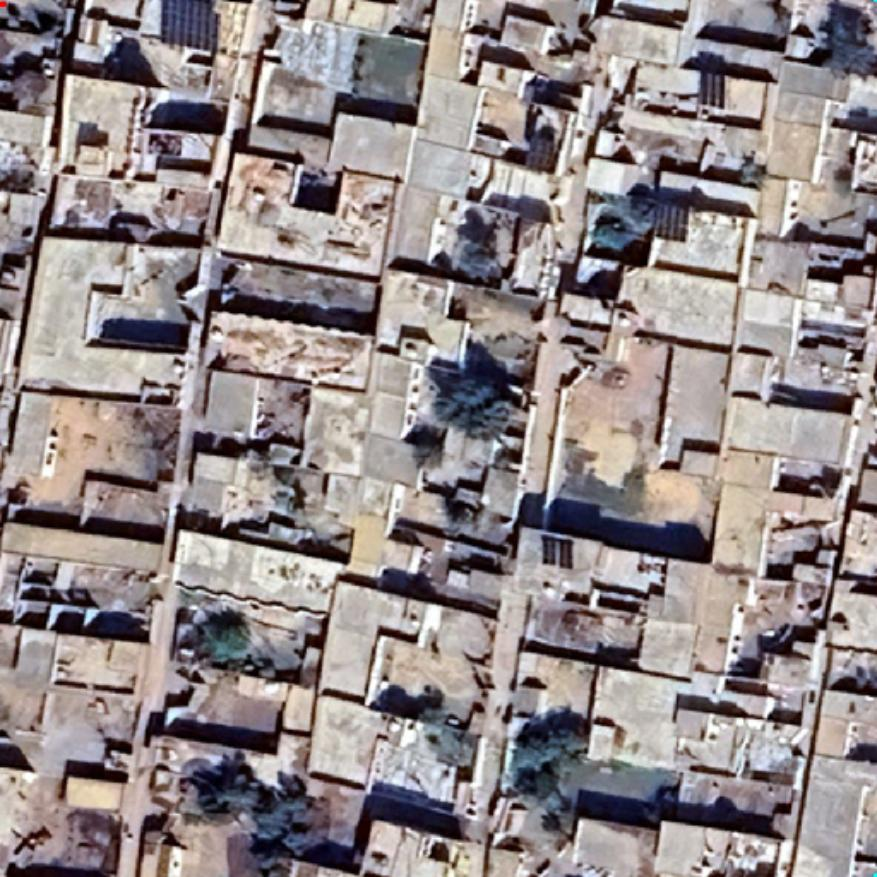Solarpanel: (156, 0, 224, 56), (649, 198, 693, 245), (521, 131, 563, 177), (538, 530, 576, 574), (696, 66, 728, 112)
